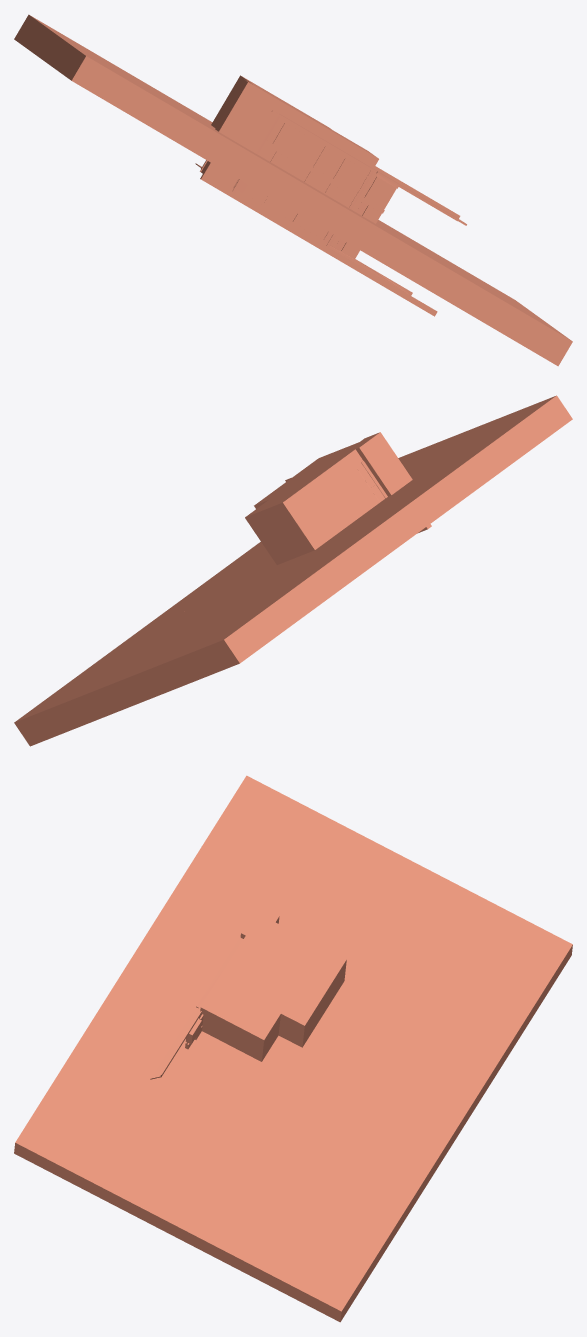
3 views of the same model, one above another, from view 1: azimuth 30°, elevation 25°; view 2: azimuth 150°, elevation 25°; view 3: azimuth 270°, elevation 25° (orthographic). The views are drawn at different scales.
Parts seen in each view (by area): view 1: mesh; view 2: mesh; view 3: mesh.
Boxes of the visible parts, bbox=[...] form: mesh: bbox=[14, 14, 572, 366]; mesh: bbox=[14, 395, 572, 746]; mesh: bbox=[14, 775, 572, 1322].
Size of the model in its own units: 60.11 by 48.67 by 69.44.
